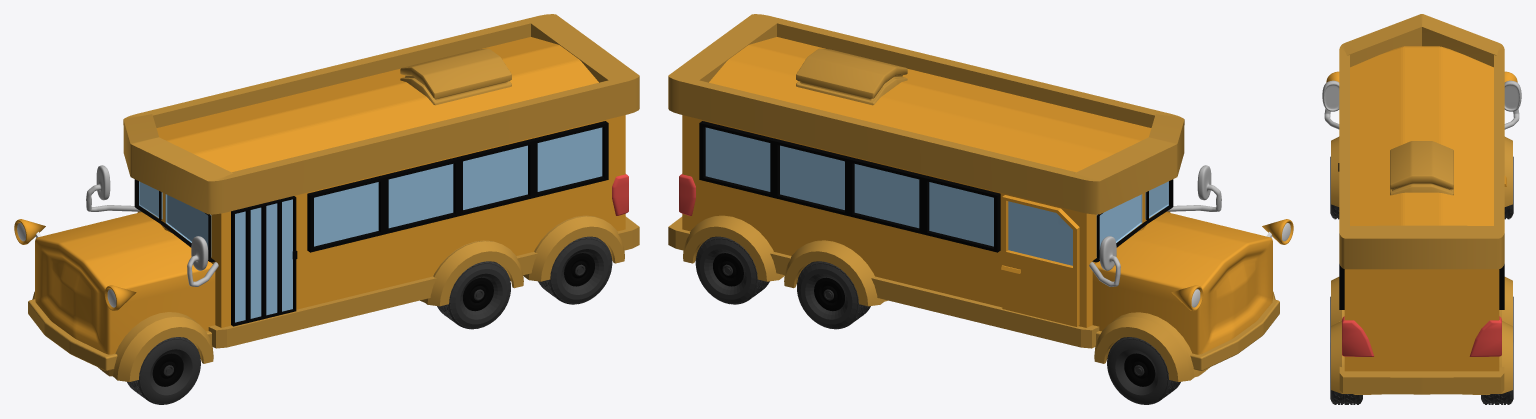
Rendered from bus.fbx.
3 renders of one model, left to right at view 1: azimuth 30°, elevation 25°; view 2: azimuth 150°, elevation 25°; view 3: azimuth 270°, elevation 25°, orthographic. The views are drawn at different scales.
Visible parts, largest first — view 1: Cube.012, Cube.016, Cube.019, Cube.013, Cube.018, Cube.015, Cube.017, Circle.015, Circle.023, Circle.019, Circle.020, Circle.012 (+9 smaller); view 2: Cube.012, Cube.016, Cube.019, Cube.013, Cube.020, Cube.015, Cube.017, Circle.015, Circle.019, Circle.023, Circle.020, Circle.012 (+9 smaller); view 3: Cube.012, Cube.016, Cube.015, Cube.017, Cube.022, Circle.023, Plane.001, Circle.015, Circle.019, Circle.020, Cube.019, Circle.012 (+1 smaller).
Part boxes in pixels (x1=…): Cube.012: x1=137, y1=37, x2=625, y2=327; Cube.016: x1=123, y1=14, x2=639, y2=214; Cube.019: x1=307, y1=121, x2=608, y2=252; Cube.013: x1=35, y1=212, x2=215, y2=354; Cube.018: x1=231, y1=196, x2=297, y2=326; Cube.015: x1=208, y1=216, x2=639, y2=348; Cube.017: x1=400, y1=48, x2=511, y2=105; Circle.015: x1=32, y1=291, x2=213, y2=381; Circle.023: x1=523, y1=215, x2=624, y2=281; Circle.019: x1=420, y1=240, x2=523, y2=306; Circle.020: x1=538, y1=236, x2=612, y2=304; Circle.012: x1=127, y1=337, x2=200, y2=404; Cube.012: x1=682, y1=37, x2=1170, y2=327; Cube.016: x1=668, y1=14, x2=1184, y2=214; Cube.019: x1=699, y1=121, x2=1000, y2=252; Cube.013: x1=1092, y1=212, x2=1272, y2=354; Cube.020: x1=1001, y1=195, x2=1079, y2=326; Cube.015: x1=668, y1=216, x2=1099, y2=348; Cube.017: x1=796, y1=48, x2=907, y2=105; Circle.015: x1=1094, y1=291, x2=1275, y2=381; Circle.019: x1=784, y1=240, x2=887, y2=306; Circle.023: x1=683, y1=215, x2=784, y2=281; Circle.020: x1=695, y1=236, x2=769, y2=304; Circle.012: x1=1107, y1=337, x2=1180, y2=404; Cube.012: x1=1344, y1=46, x2=1499, y2=371; Cube.016: x1=1339, y1=14, x2=1504, y2=269; Cube.015: x1=1339, y1=321, x2=1504, y2=394; Cube.017: x1=1390, y1=141, x2=1453, y2=195; Cube.022: x1=1342, y1=316, x2=1501, y2=356; Circle.023: x1=1331, y1=321, x2=1512, y2=394; Plane.001: x1=1322, y1=80, x2=1521, y2=129; Circle.015: x1=1331, y1=136, x2=1512, y2=206; Circle.019: x1=1331, y1=277, x2=1512, y2=325; Circle.020: x1=1330, y1=342, x2=1513, y2=404; Cube.019: x1=1339, y1=264, x2=1504, y2=309; Circle.012: x1=1330, y1=156, x2=1513, y2=219.
Size of the model in its own units: 2382 by 951 by 822.
